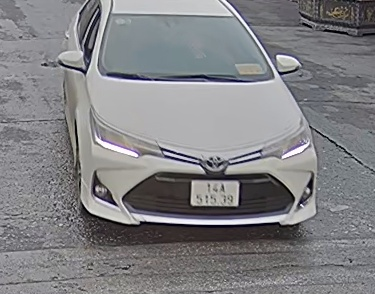vehicle plate: (188, 177, 243, 209)
